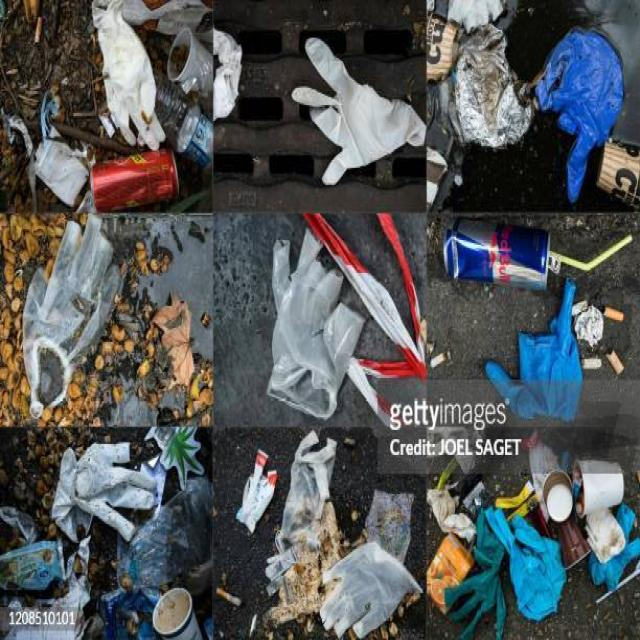metal: (448, 229, 558, 306), (70, 168, 178, 220)
plastic: (240, 442, 413, 616), (217, 86, 413, 190), (273, 242, 393, 406), (24, 261, 118, 403), (548, 33, 611, 182), (60, 458, 152, 540), (152, 85, 218, 186), (159, 27, 212, 94)
trash: (450, 447, 615, 599)
